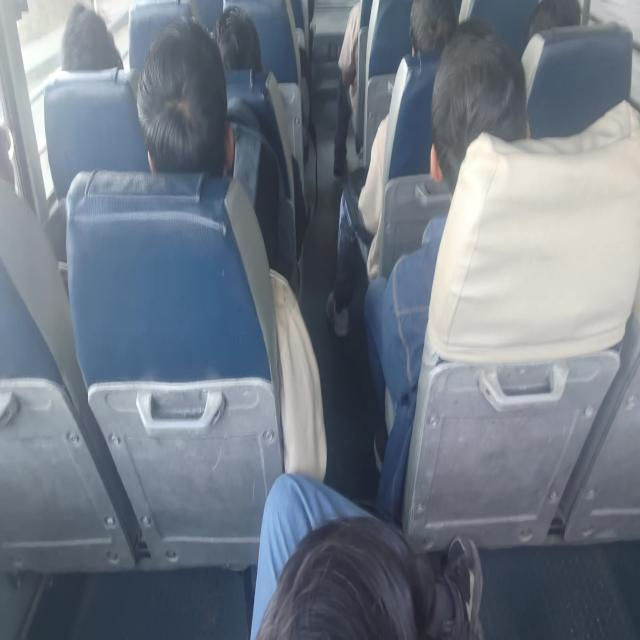person: (135, 15, 327, 480), (363, 21, 530, 500), (325, 0, 457, 338), (250, 471, 484, 639), (136, 16, 234, 176), (333, 0, 361, 178), (60, 2, 124, 71), (213, 5, 263, 72), (409, 0, 457, 58), (528, 0, 581, 40)
